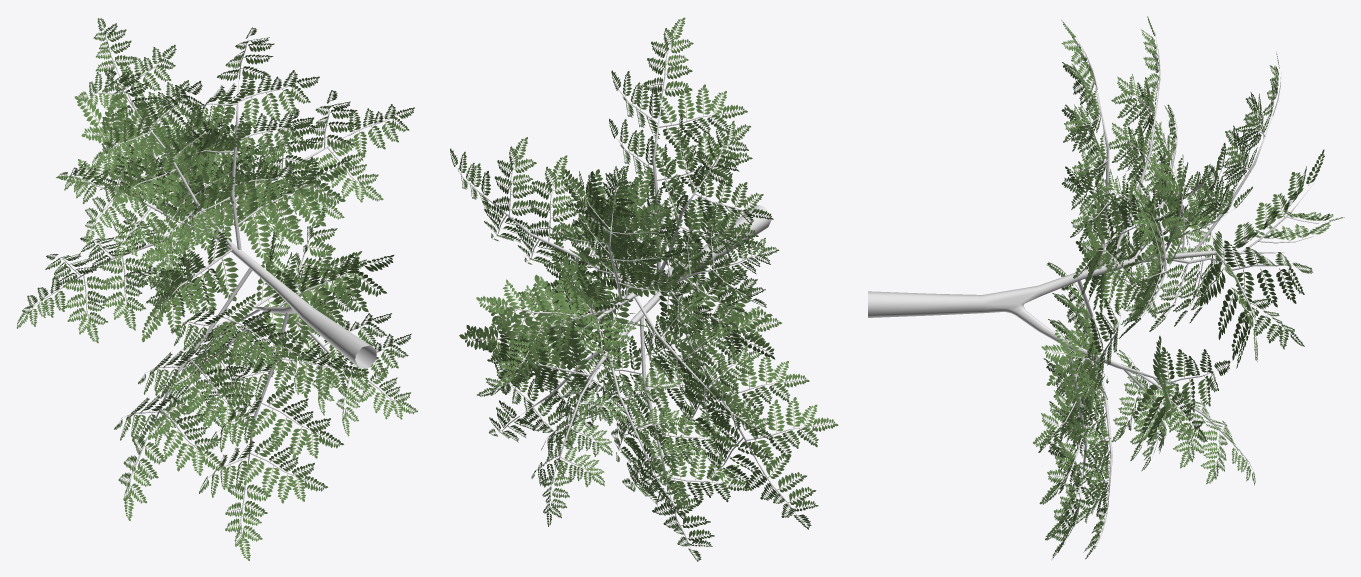
The model's file is wit_05.fbx.
3 renders of one model, left to right at view 1: azimuth 30°, elevation 25°; view 2: azimuth 150°, elevation 25°; view 3: azimuth 270°, elevation 25°, orthographic. The views are drawn at different scales.
Parts seen in each view (by area): view 1: wit_karsen.001; view 2: wit_karsen.001; view 3: wit_karsen.001.
Part boxes in pixels (bbox=[...]): wit_karsen.001: bbox=[16, 18, 417, 560]; wit_karsen.001: bbox=[450, 17, 838, 561]; wit_karsen.001: bbox=[868, 16, 1344, 559].
Bounding box in the file's own units: 4649 × 6519 × 5167.
